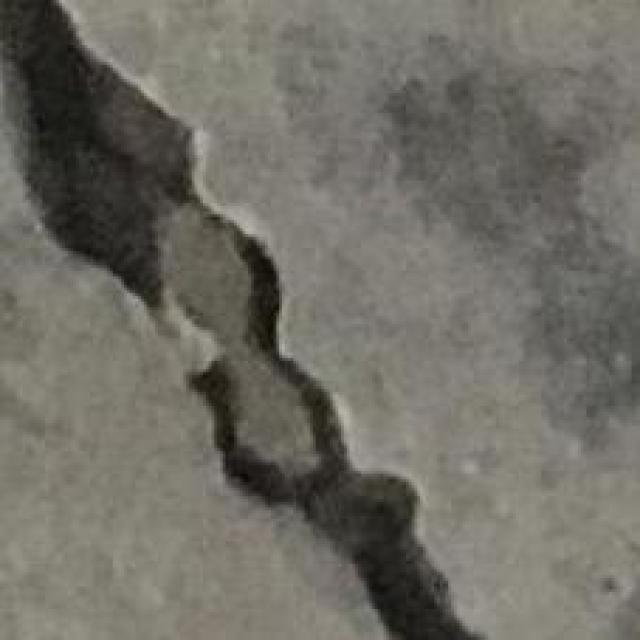Longitudinal: (0, 0, 146, 281), (345, 461, 484, 640)
Turtle-shell patterned: (155, 186, 333, 494)
